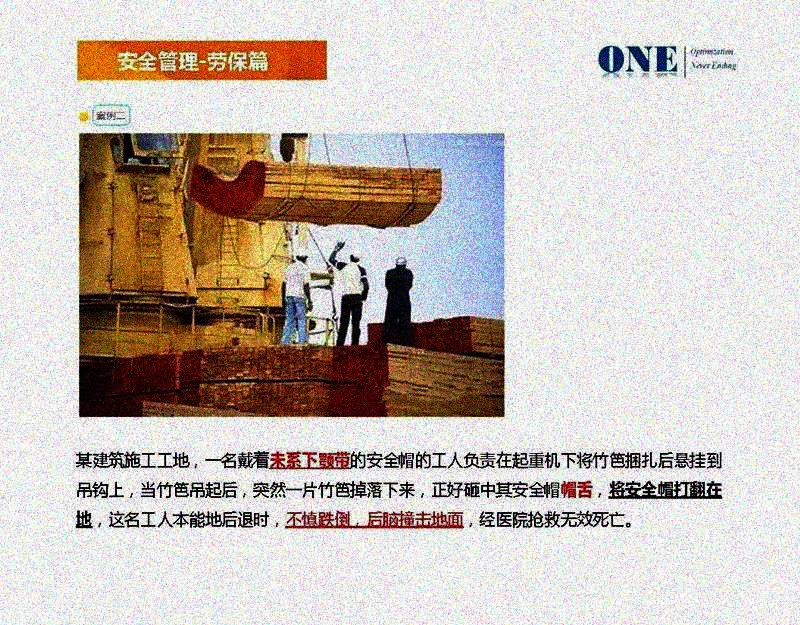helmet: (348, 248, 364, 265), (295, 247, 310, 263), (395, 254, 409, 269)
